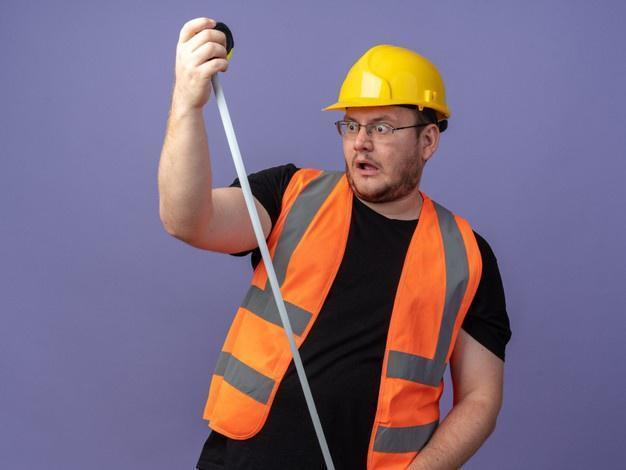helmet: (320, 44, 450, 121)
